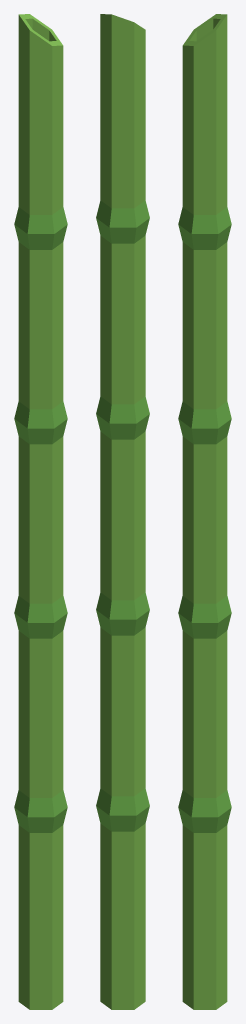
File: Bamboo_03.fbx
The picture shows the model from 3 angles, left to right: view 1: azimuth 90°, elevation 25°; view 2: azimuth 150°, elevation 25°; view 3: azimuth 270°, elevation 25°; orthographic projection.
Visible parts, largest first — view 1: Bamboo_03; view 2: Bamboo_03; view 3: Bamboo_03.
Part boxes in pixels (bbox=[...]): Bamboo_03: bbox=[14, 14, 67, 1009]; Bamboo_03: bbox=[96, 14, 149, 1009]; Bamboo_03: bbox=[178, 14, 231, 1009].
Size of the model in its own units: 16.45 by 387 by 18.99.
